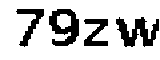7: (14, 3, 45, 48)
9: (45, 5, 80, 51)
w: (116, 15, 160, 52)
z: (83, 17, 112, 50)
